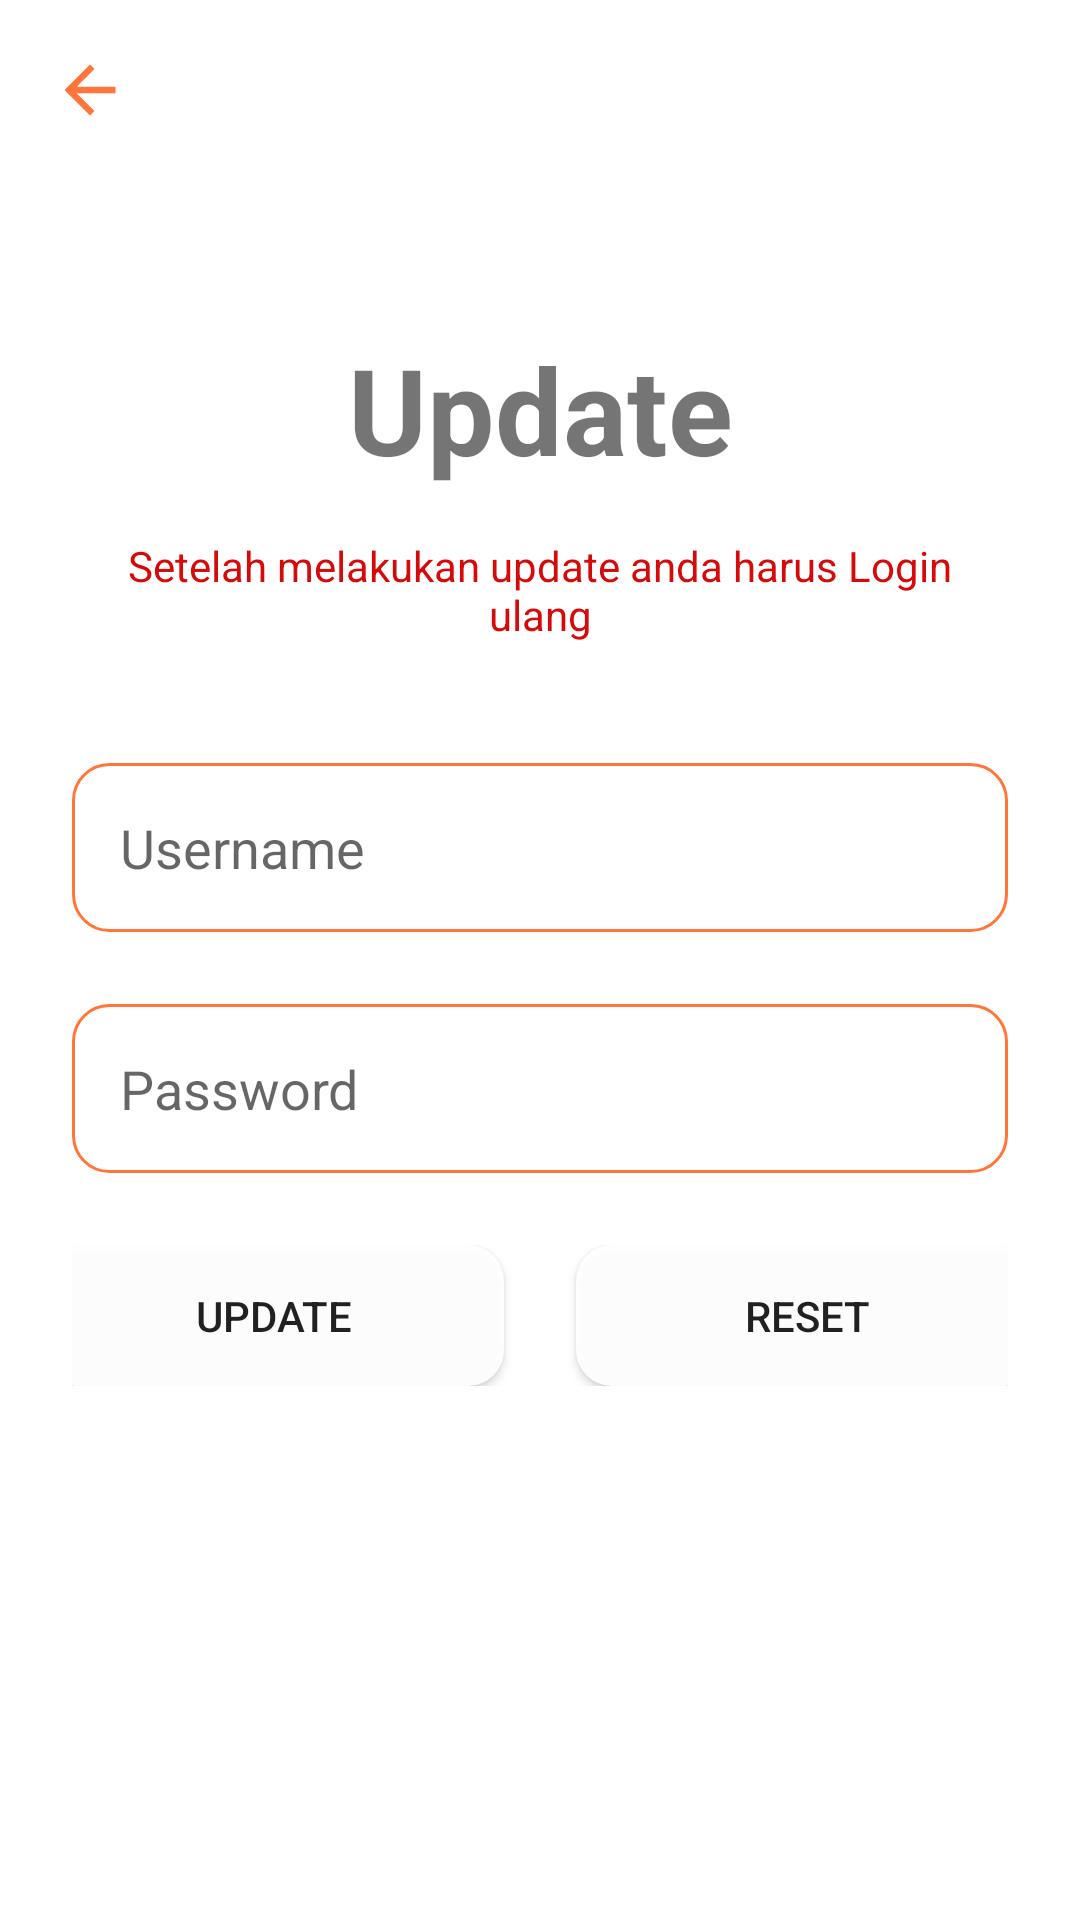

Point at icon controls on the screen. Image size 1080px x 1920px, points as point (x, y).
back: point (90, 90)
